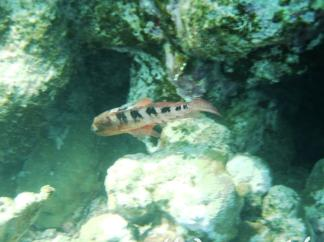Serranidae -Groupers-: (89, 95, 222, 140)
